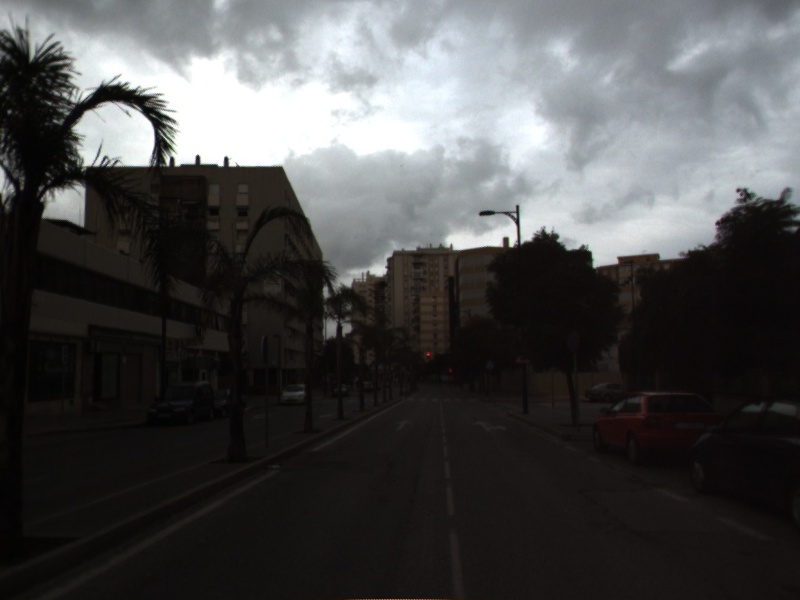STRAIGHT: (393, 418, 415, 433)
STRAIGHT_RIGHT: (472, 418, 509, 433)
